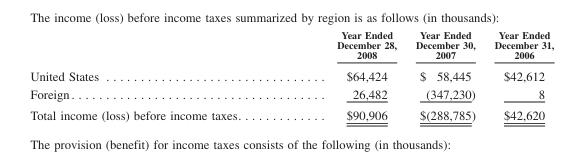table: (29, 28, 553, 121)
table column: (29, 28, 288, 121), (288, 28, 405, 121), (405, 28, 484, 121), (484, 28, 553, 121)
table column header: (29, 28, 553, 64)
table row: (29, 28, 553, 64), (29, 64, 553, 84), (29, 84, 553, 103), (29, 103, 553, 121)
